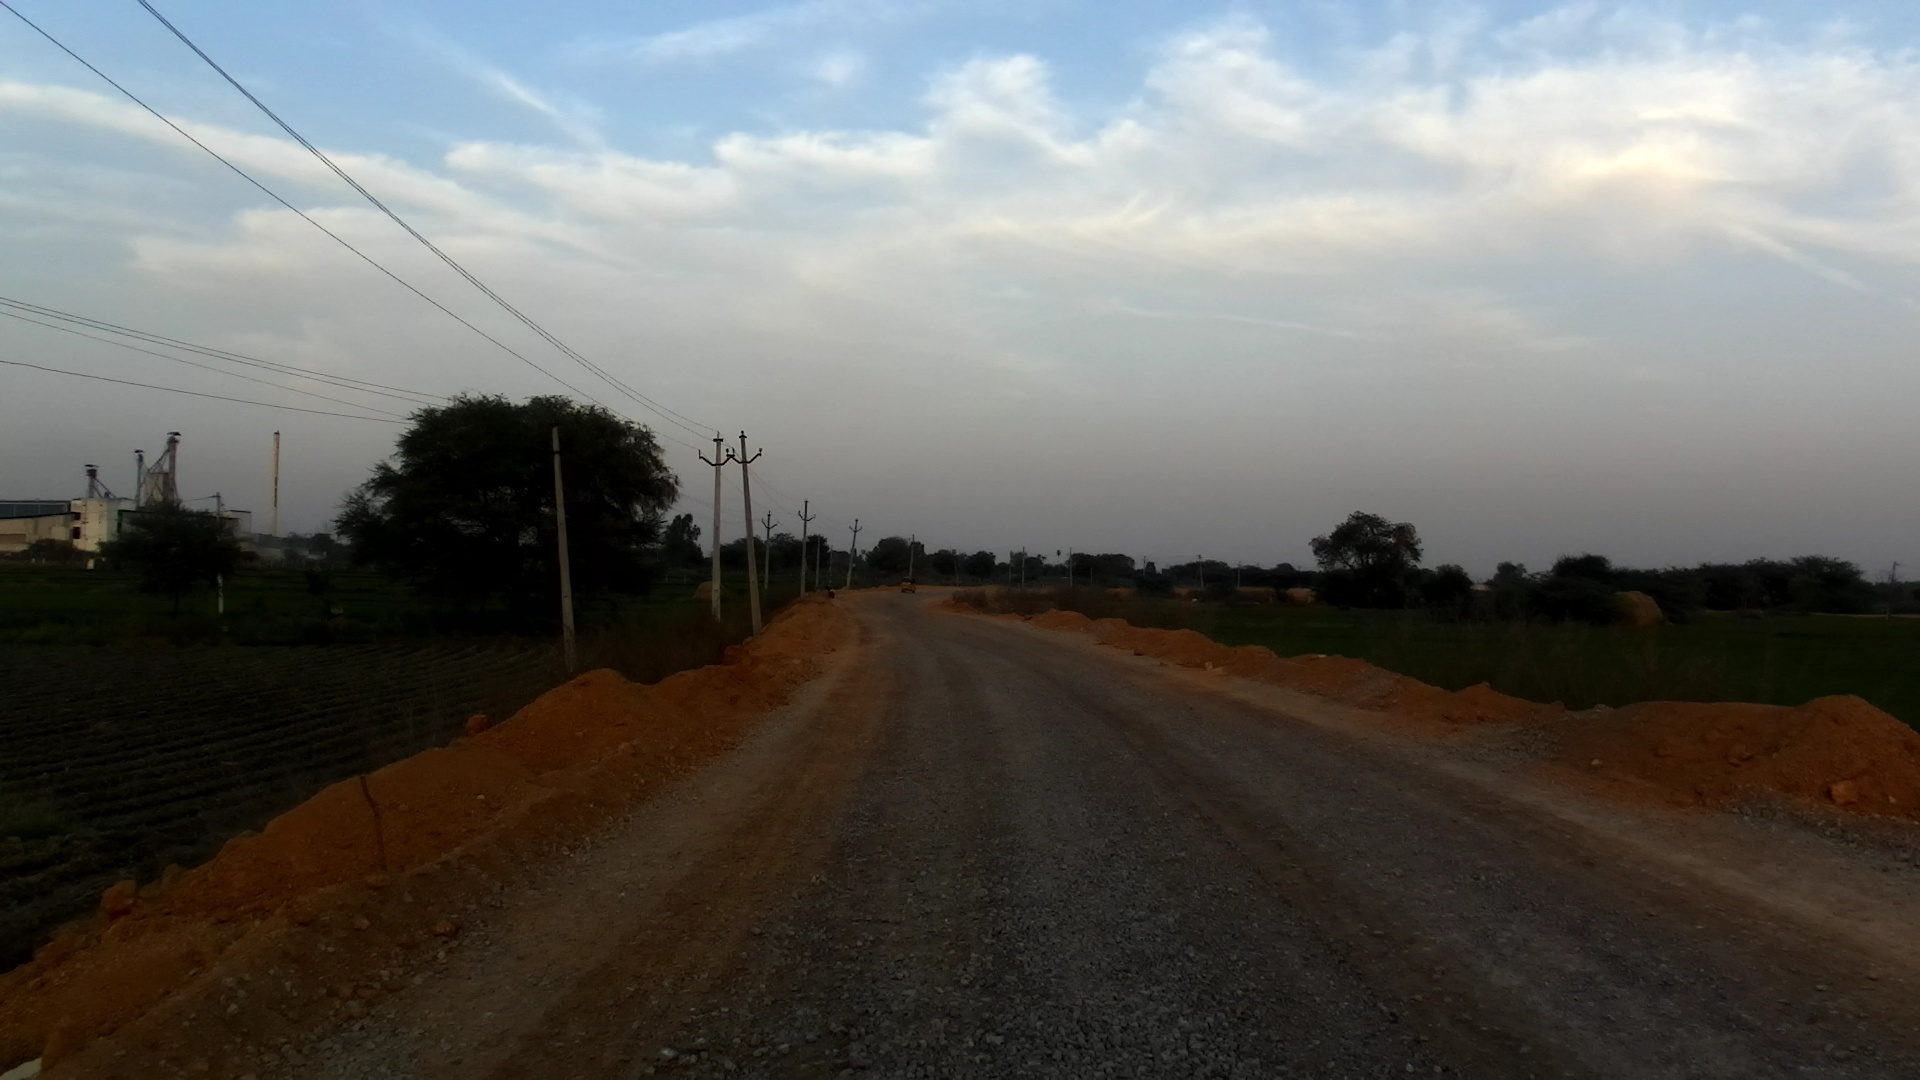autorickshaw: (898, 578, 920, 599)
motorcycle: (825, 583, 837, 605)
